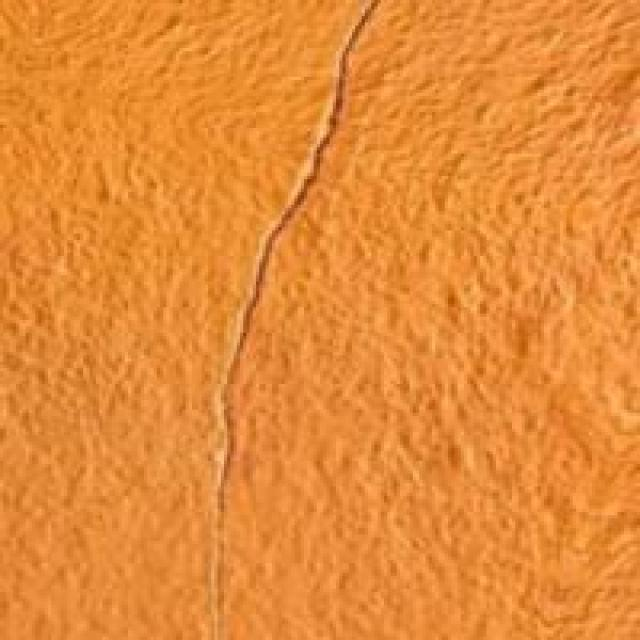crack: (198, 0, 388, 602)
